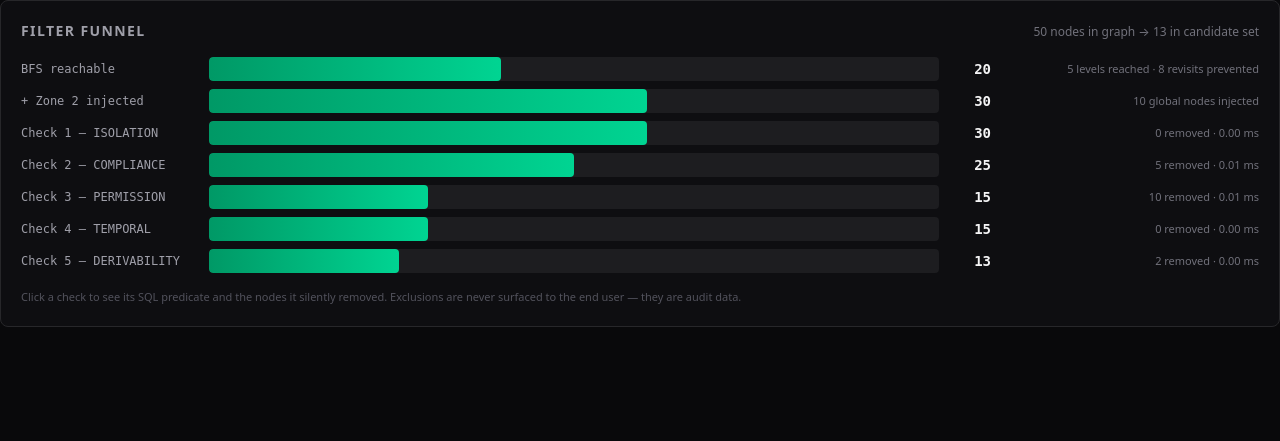
Scenario: FilterFunnel › collapses when clicking the same check again
Step 1. Click the text "Check 2 — COMPLIANCE" → {"x": 93, "y": 165}, box [21,158,166,172]
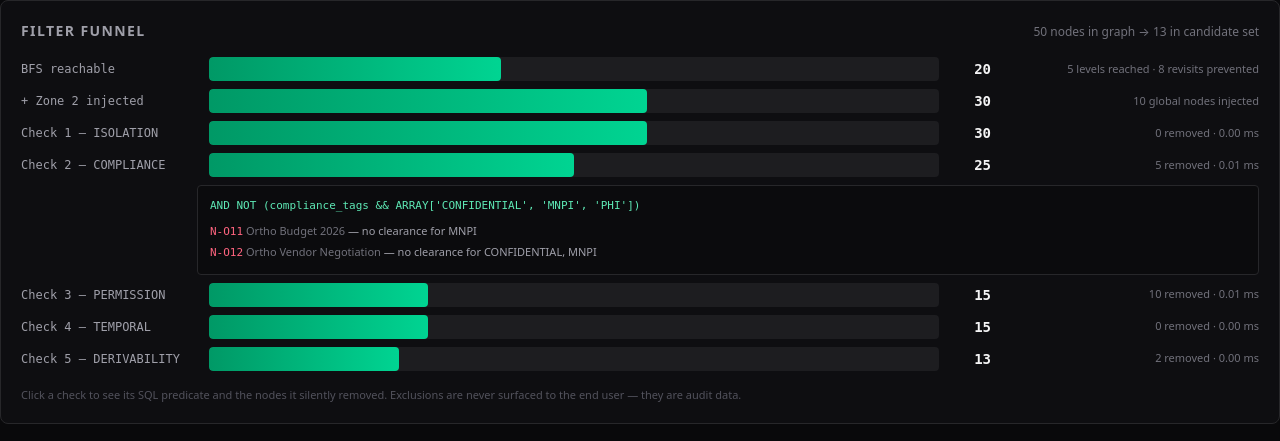
Now the text "N-O11" is shown, box [210,224,243,238]
Step 2. Click the text "Check 2 — COMPLIANCE" → {"x": 93, "y": 165}, box [21,158,166,172]
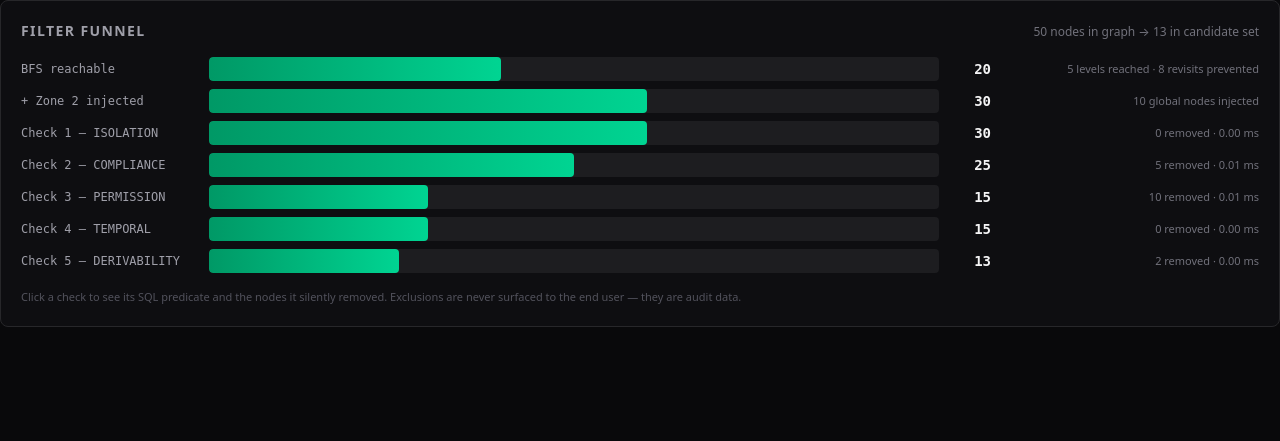
Now the text "N-O11" is gone
